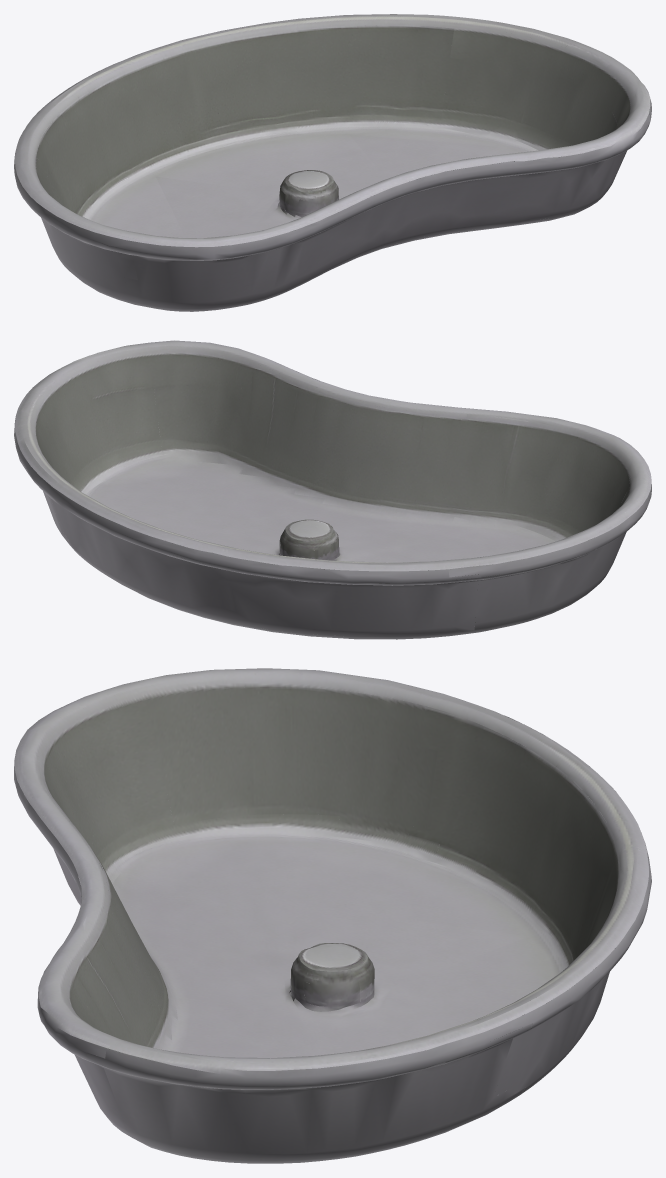
File: bassin.glb
The picture shows the model from 3 angles, top to bottom: view 1: azimuth 30°, elevation 25°; view 2: azimuth 150°, elevation 25°; view 3: azimuth 270°, elevation 25°; orthographic projection. The views are drawn at different scales.
Visible parts, largest first — view 1: Mesh0_Material.001_0; view 2: Mesh0_Material.001_0; view 3: Mesh0_Material.001_0.
Part boxes in pixels (box(x1,y1,x2,y2)): Mesh0_Material.001_0: box(14, 14, 651, 311); Mesh0_Material.001_0: box(14, 340, 651, 639); Mesh0_Material.001_0: box(14, 668, 651, 1163).
Size of the model in its own units: 0.2499 by 0.0386 by 0.1674.
Materials: 1 (1 with a texture image).
